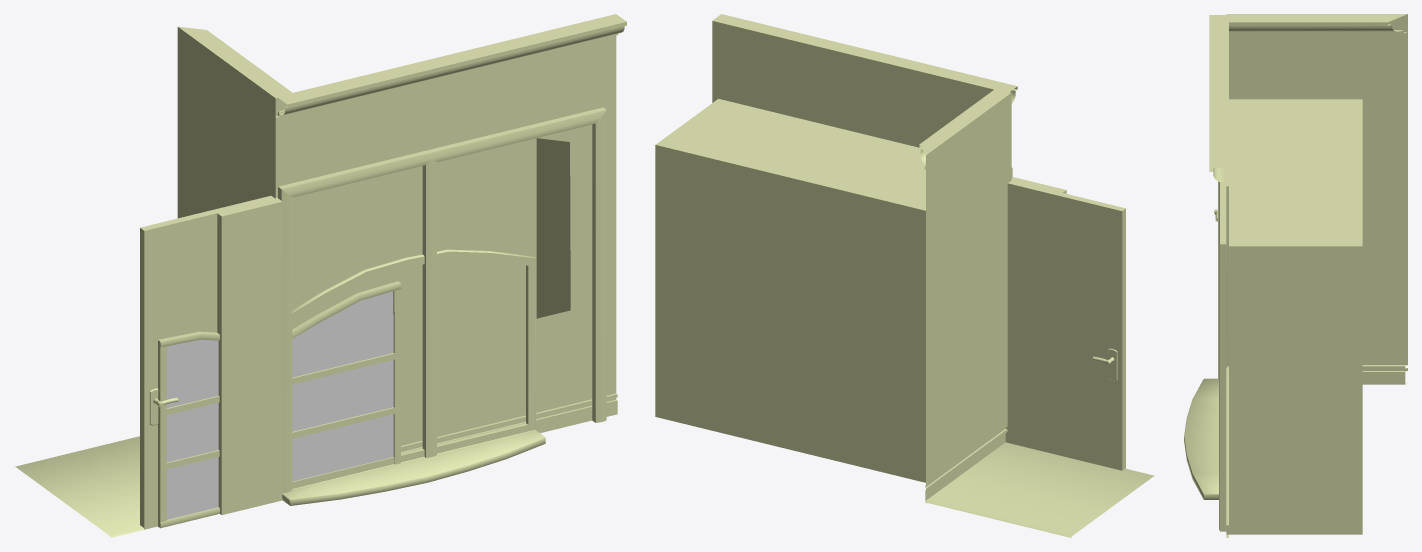
File: BabyRoomAssets.fbx
3 renders of one model, left to right at view 1: azimuth 30°, elevation 25°; view 2: azimuth 150°, elevation 25°; view 3: azimuth 270°, elevation 25°, orthographic. The views are drawn at different scales.
Visible parts, largest first — view 1: SM_Wall_WindowHole, SM_Wall_Central, SM_Wall_ClosetHole, SM_ClosetDoor, SM_windowL, SM_Wall_BorderLeft, SM_Wall_BorderRight, SM_DoorHandle, SM_window_Frame, SM_windowR, SM_ClosetBorder, SM_DoorBorder (+2 smaller); view 2: SM_Wall_ClosetHole, SM_DoorHandle, SM_Wall_BorderLeft, SM_Chao, SM_Wall_WindowHole, SM_Wall_Central; view 3: SM_Wall_ClosetHole, SM_Wall_BorderLeft, SM_Wall_WindowHole, SM_window_Frame, SM_ClosetBorder, SM_DoorHandle.
Part boxes in pixels (x1,y1,x2,y2): SM_Wall_WindowHole: (276,14,626,453); SM_Wall_Central: (276,63,456,453); SM_Wall_ClosetHole: (277,18,617,411); SM_ClosetDoor: (217,198,282,514); SM_windowL: (292,281,401,481); SM_Wall_BorderLeft: (177,26,292,218); SM_Wall_BorderRight: (275,77,444,452); SM_DoorHandle: (140,196,277,529); SM_window_Frame: (282,249,545,505); SM_windowR: (158,331,219,528); SM_ClosetBorder: (280,107,606,492); SM_DoorBorder: (278,149,436,492); SM_Wall_ClosetHole: (655,14,1017,482); SM_DoorHandle: (1005,180,1125,470); SM_Wall_BorderLeft: (919,89,1011,503); SM_Chao: (925,442,1154,537); SM_Wall_WindowHole: (712,14,1017,122); SM_Wall_Central: (898,70,1017,128); SM_Wall_ClosetHole: (1209,15,1362,537); SM_Wall_BorderLeft: (1226,14,1407,384); SM_Wall_WindowHole: (1209,15,1228,537); SM_window_Frame: (1184,378,1218,499); SM_ClosetBorder: (1219,182,1226,531); SM_DoorHandle: (1214,186,1228,366).
Size of the model in its own units: 2908 by 2190 by 1201.
